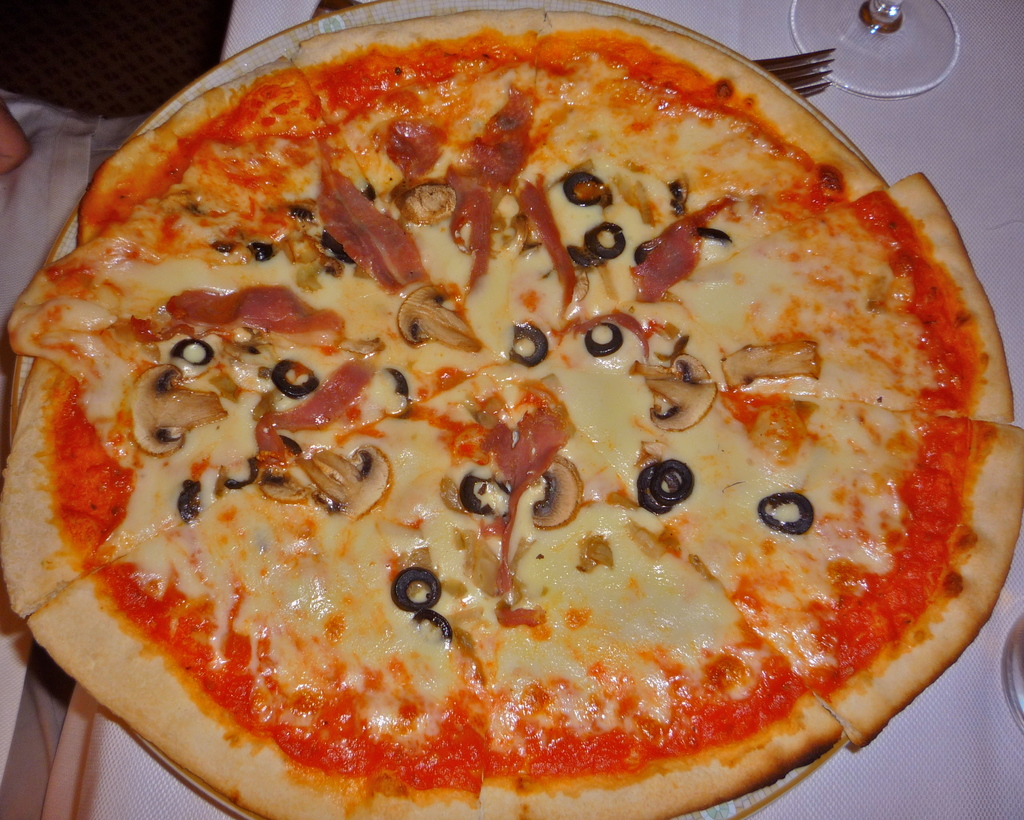Pizza: (0, 1, 1022, 812)
